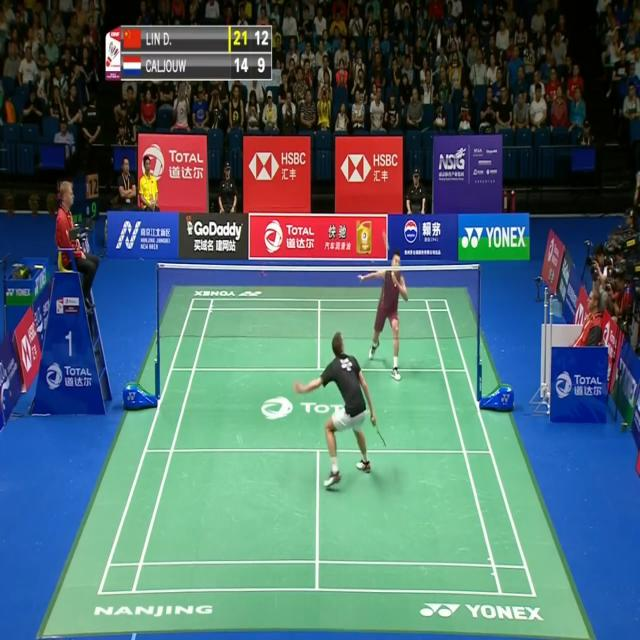Player1: (293, 332, 379, 494)
Player2: (356, 245, 409, 383)
